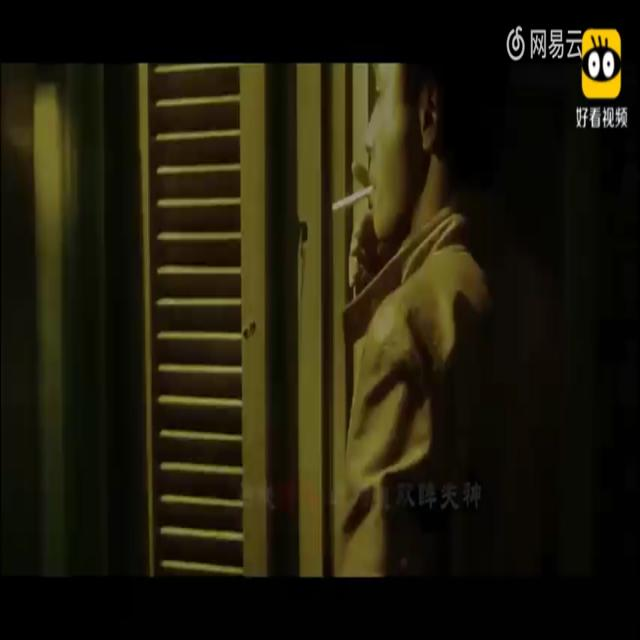smoke: (331, 186, 372, 214)
